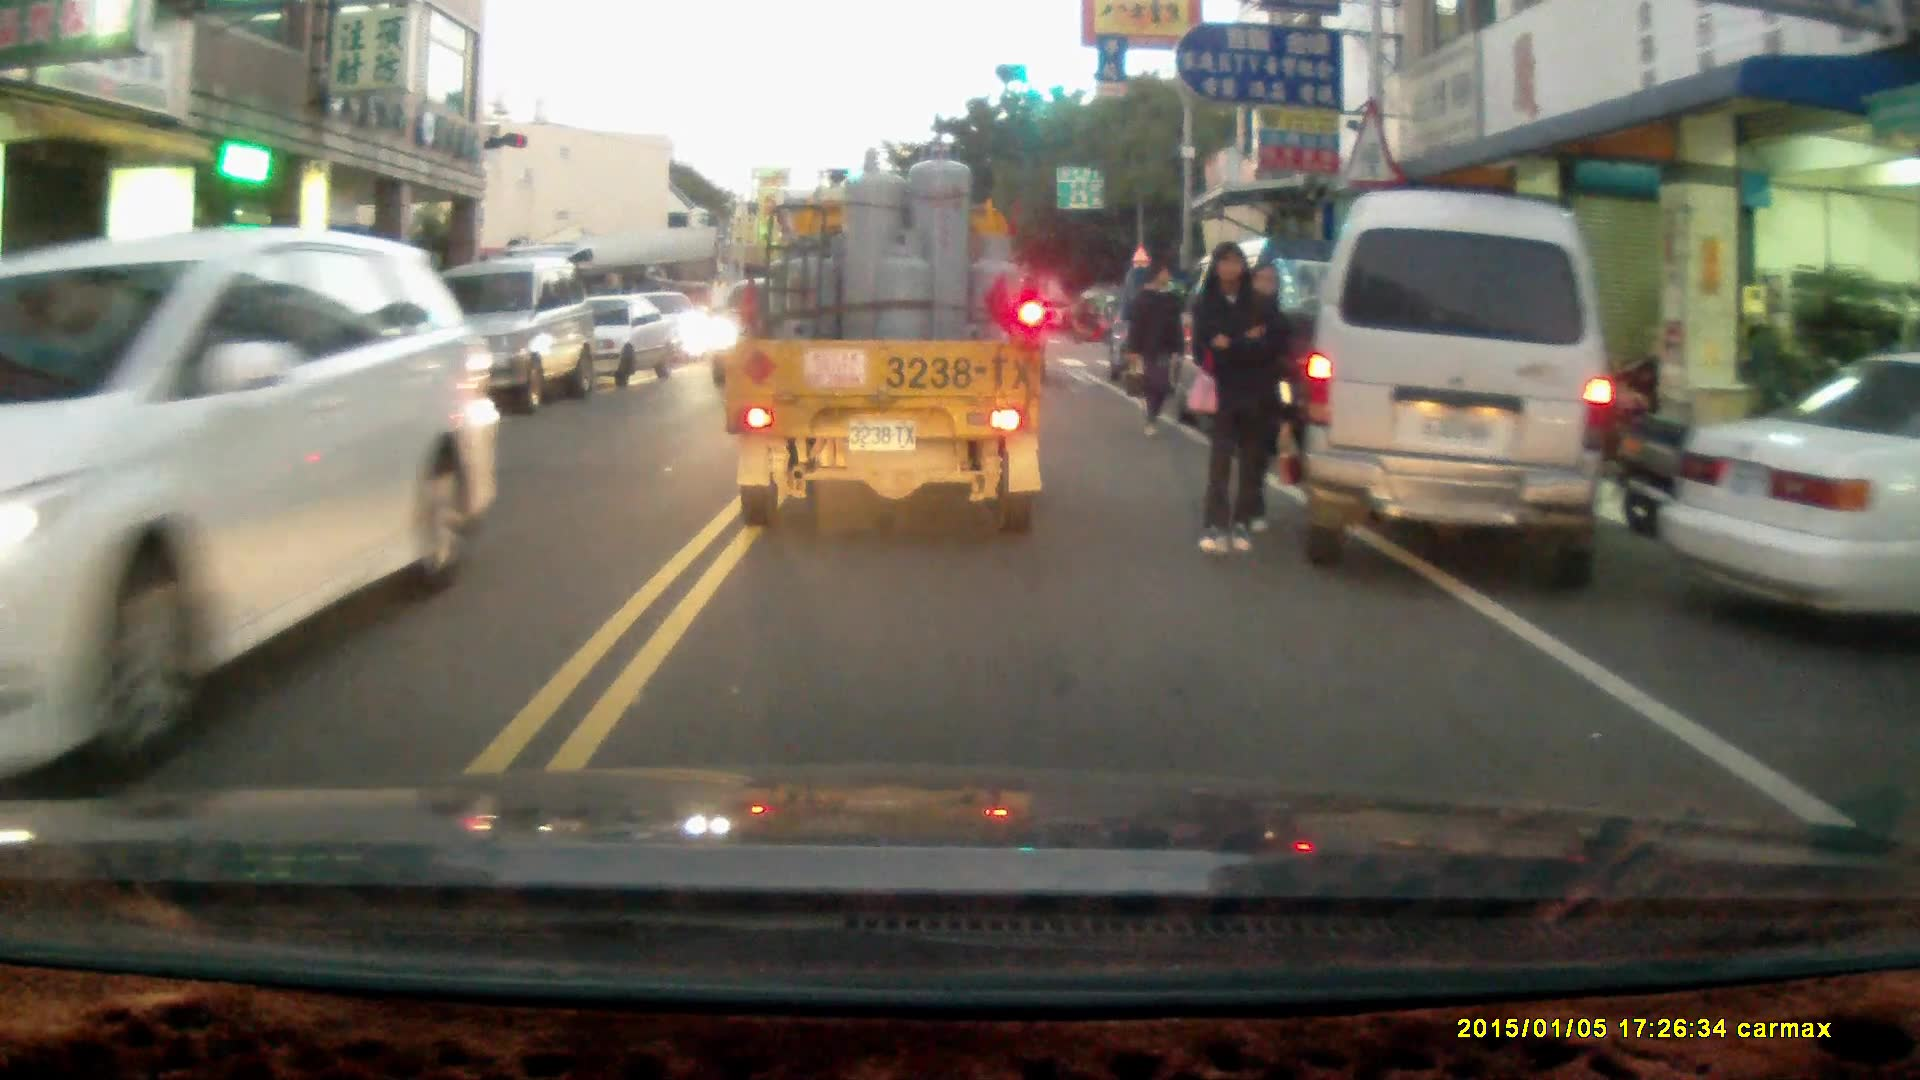pedestrian: (1188, 238, 1287, 558), (1127, 261, 1184, 437)
rider: (1071, 290, 1113, 343)
vehicle: (1, 220, 516, 729), (718, 138, 1052, 533), (1294, 189, 1616, 591), (1661, 359, 1920, 631), (381, 248, 599, 420), (530, 290, 680, 389)
